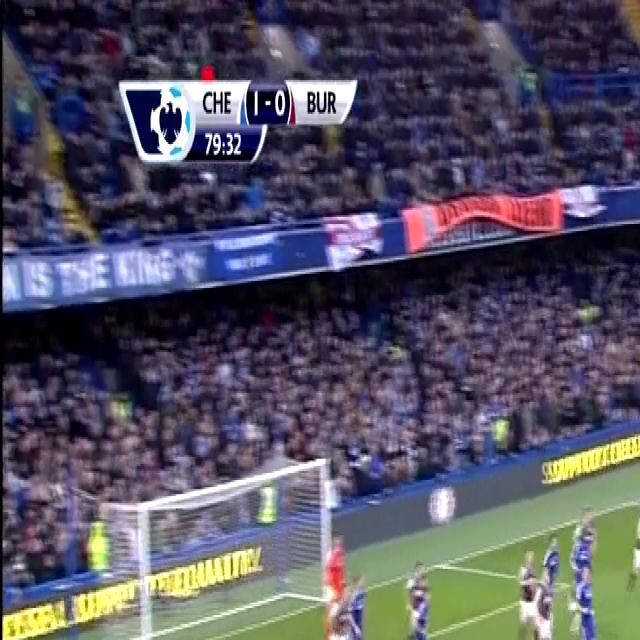goalkeeper: (324, 529, 354, 640)
soccer-player: (566, 503, 601, 610), (506, 537, 541, 640), (395, 562, 440, 640), (530, 547, 562, 640), (538, 527, 566, 628), (567, 570, 602, 640), (322, 579, 361, 640), (343, 567, 371, 640), (625, 487, 640, 599)
